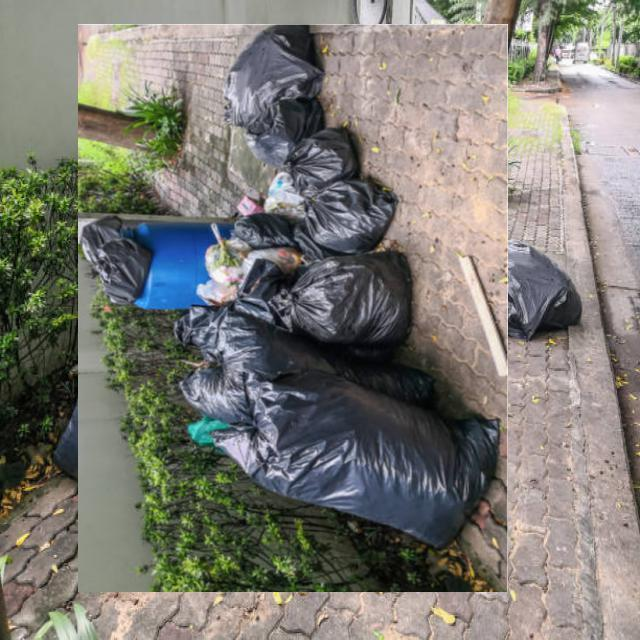Trashbag: (255, 380, 497, 554), (283, 248, 442, 365), (164, 308, 252, 424), (207, 38, 324, 104), (313, 187, 407, 255), (242, 106, 312, 156), (114, 240, 159, 306), (225, 208, 293, 250), (298, 139, 355, 187), (243, 267, 279, 321), (76, 218, 113, 266)
